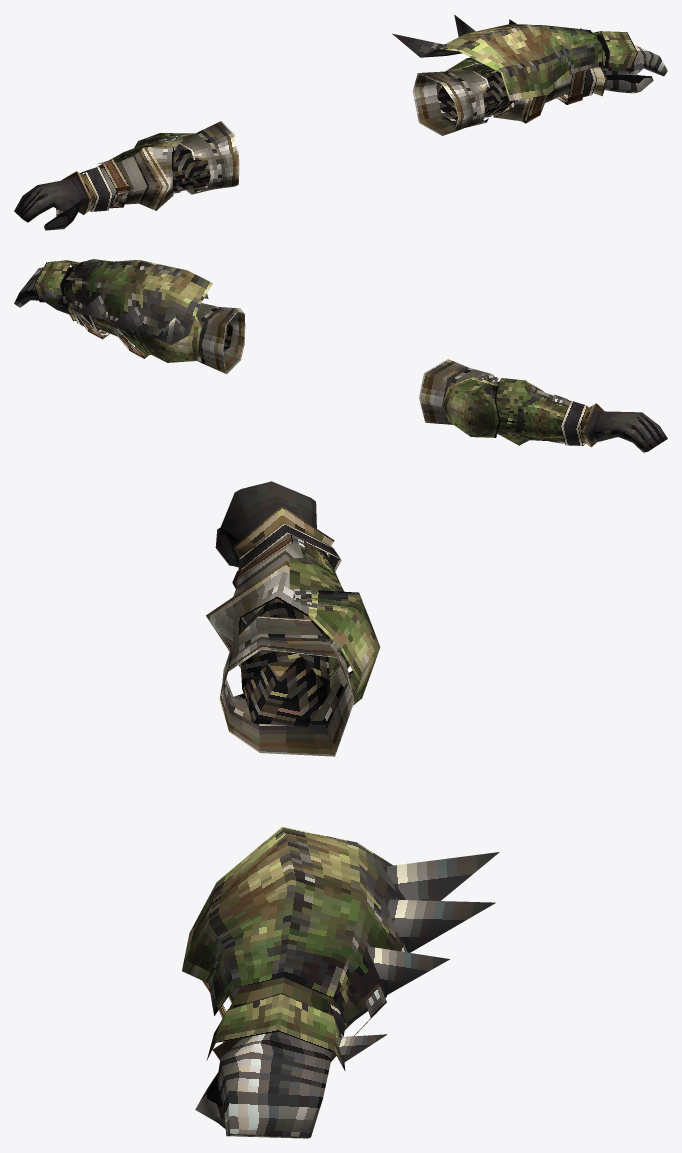
Rendered from f_arm204.glb.
3 renders of one model, top to bottom at view 1: azimuth 30°, elevation 25°; view 2: azimuth 150°, elevation 25°; view 3: azimuth 270°, elevation 25°, orthographic. The views are drawn at different scales.
Bounding box in the file's own units: 173 × 23.43 × 37.2.
Materials: 1 (1 with a texture image).
